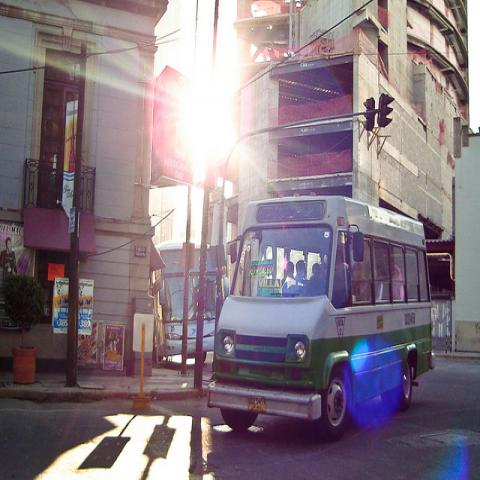bus: (207, 196, 437, 442), (156, 240, 219, 363)
